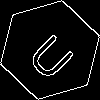U: (25, 25, 84, 84)
